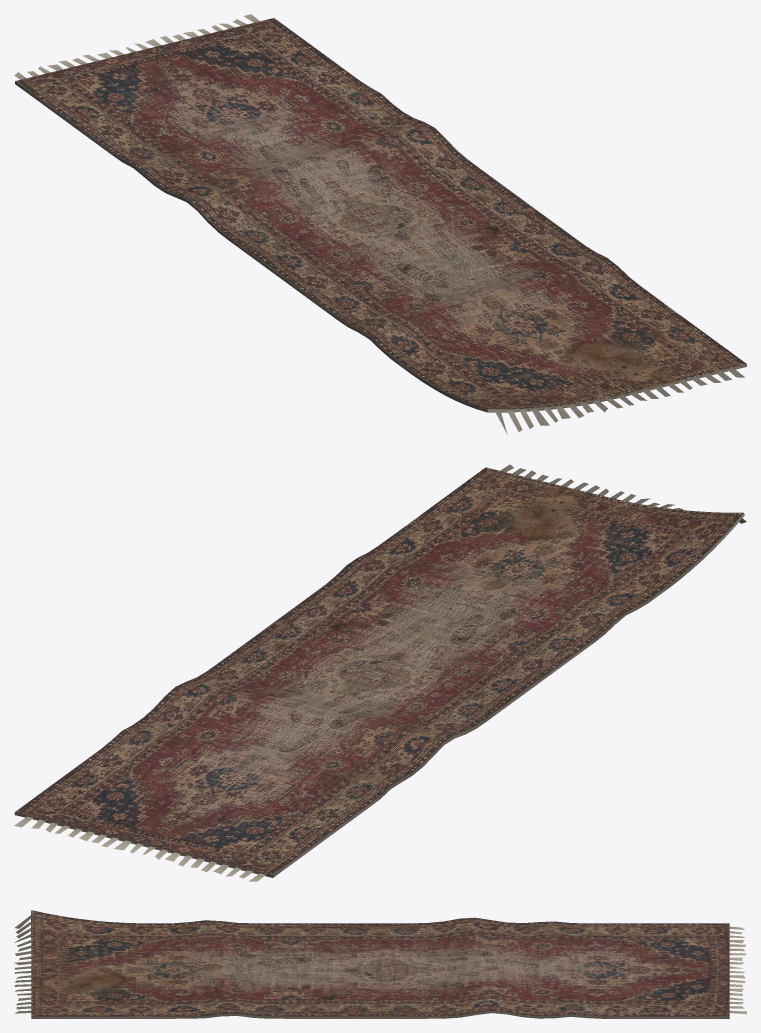
File: rug_runner.glb
3 views of the same model, one above another, from view 1: azimuth 30°, elevation 25°; view 2: azimuth 150°, elevation 25°; view 3: azimuth 270°, elevation 25° (orthographic). The views are drawn at different scales.
Visible parts, largest first — view 1: rug_runner; view 2: rug_runner; view 3: rug_runner.
Boxes of the visible parts, <box> form: rug_runner: <box>14,14,746,434</box>; rug_runner: <box>14,464,746,881</box>; rug_runner: <box>14,910,746,1018</box>.
Bounding box in the file's own units: 0.7617 × 0.0581 × 2.52.
Materials: 3 (1 with a texture image).
